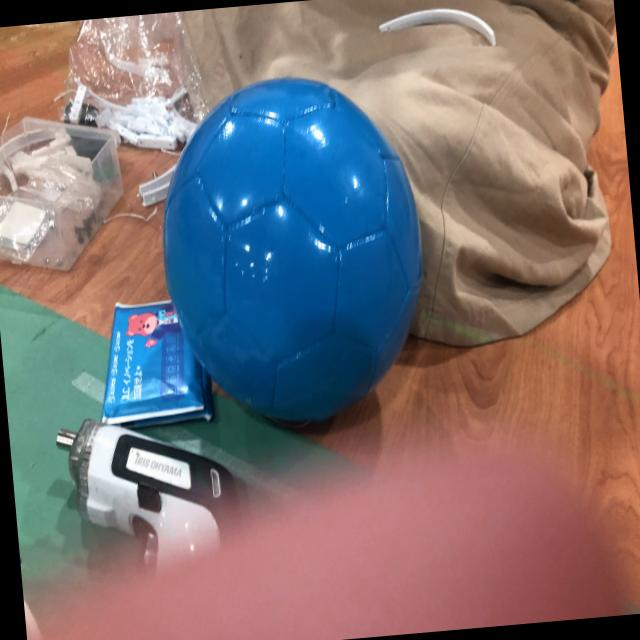blue_ball: (152, 68, 436, 434)
